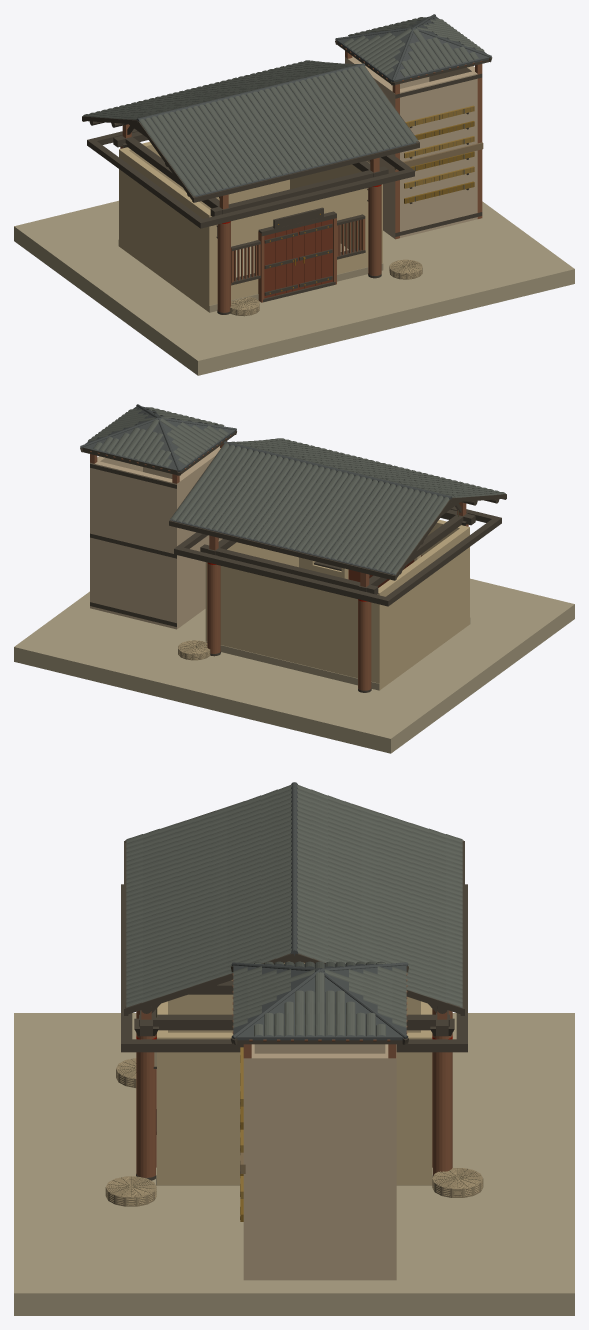
File: zhaoxian.glb
3 renders of one model, top to bottom at view 1: azimuth 30°, elevation 25°; view 2: azimuth 150°, elevation 25°; view 3: azimuth 270°, elevation 25°, orthographic. The views are drawn at different scales.
Parts seen in each view (by area): view 1: zhaoxian; view 2: zhaoxian; view 3: zhaoxian.
Part boxes in pixels (x1,y1,x2,y2): zhaoxian: [14, 14, 574, 375]; zhaoxian: [14, 404, 574, 753]; zhaoxian: [14, 782, 574, 1315].
Size of the model in its own units: 22 by 11.05 by 18.62.
